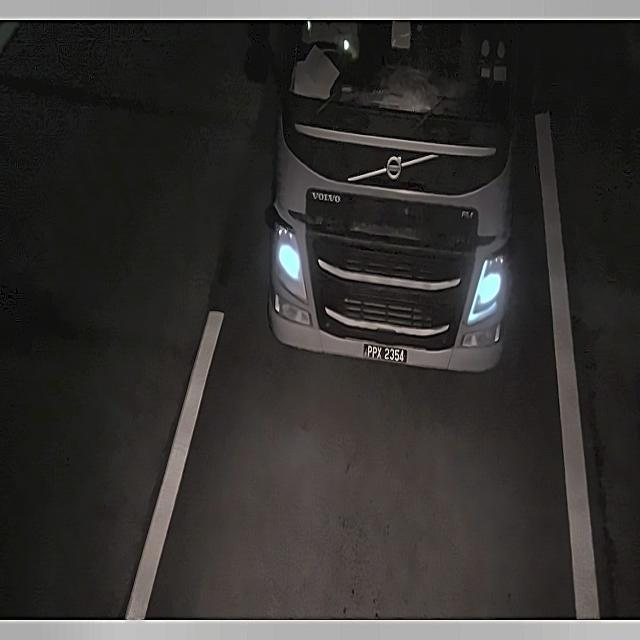car: (360, 334, 412, 372)
